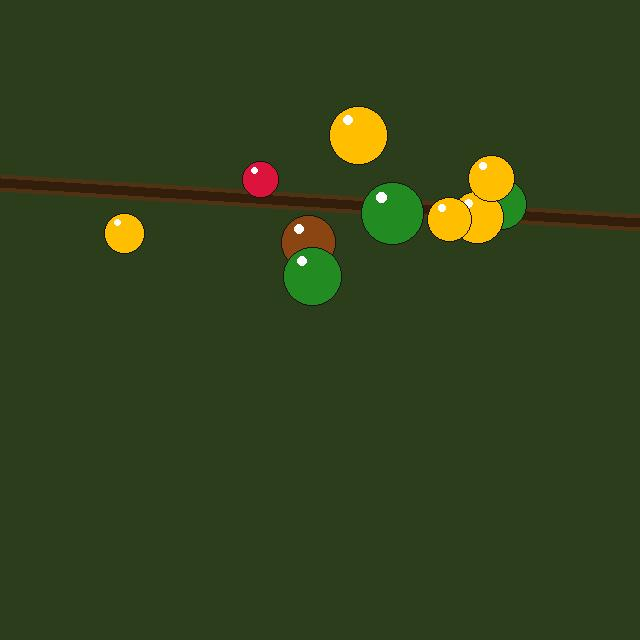Overripe: (281, 215, 335, 269)
Ripe: (242, 161, 278, 197)
Ripening: (329, 106, 387, 164), (451, 191, 503, 243), (468, 155, 514, 201), (427, 197, 471, 241), (104, 213, 144, 253)
Unripe: (361, 182, 423, 244), (283, 247, 341, 305), (476, 179, 526, 229)
